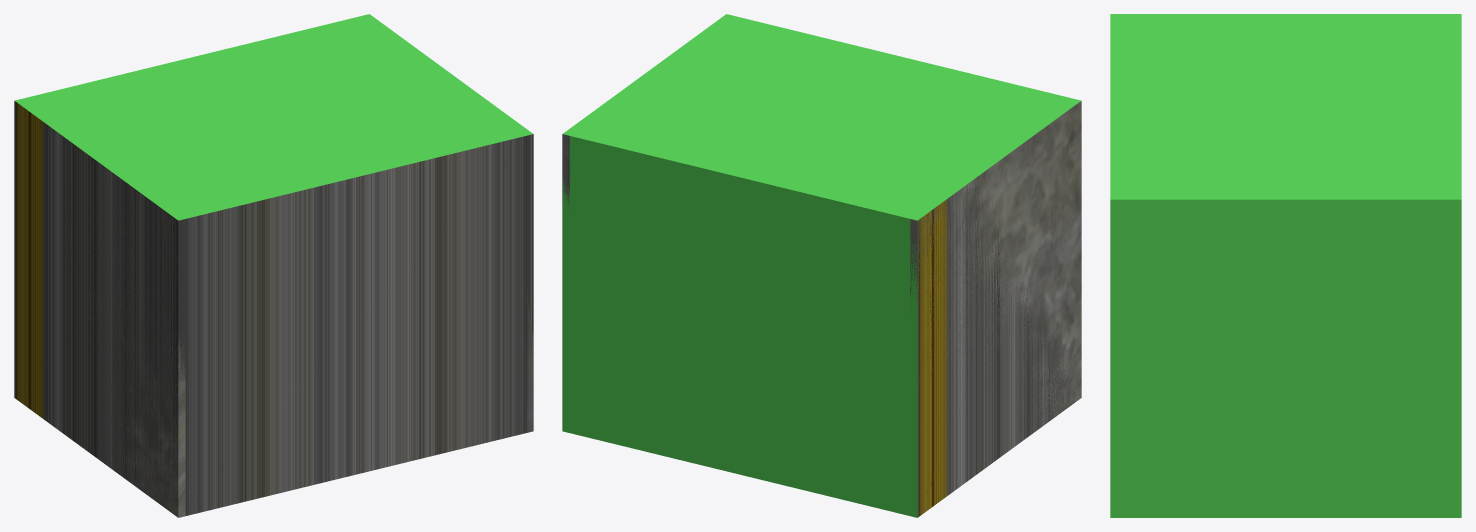
Rendered from hvac_duct_outtake.DAE.
The picture shows the model from 3 angles, left to right: view 1: azimuth 30°, elevation 25°; view 2: azimuth 150°, elevation 25°; view 3: azimuth 270°, elevation 25°; orthographic projection. The views are drawn at different scales.
Visible parts, largest first — view 1: colbox-01, bounds, LP_hvac_outtake; view 2: bounds, colbox-01, LP_hvac_outtake; view 3: bounds.
Boxes of the visible parts, <box> form: colbox-01: <box>14,101,533,515</box>; bounds: <box>15,14,532,220</box>; LP_hvac_outtake: <box>70,155,533,517</box>; bounds: <box>562,14,1080,517</box>; colbox-01: <box>917,171,1079,517</box>; LP_hvac_outtake: <box>562,101,1081,436</box>; bounds: <box>1110,14,1461,517</box>.
Size of the model in its own units: 100 by 80 by 80.
